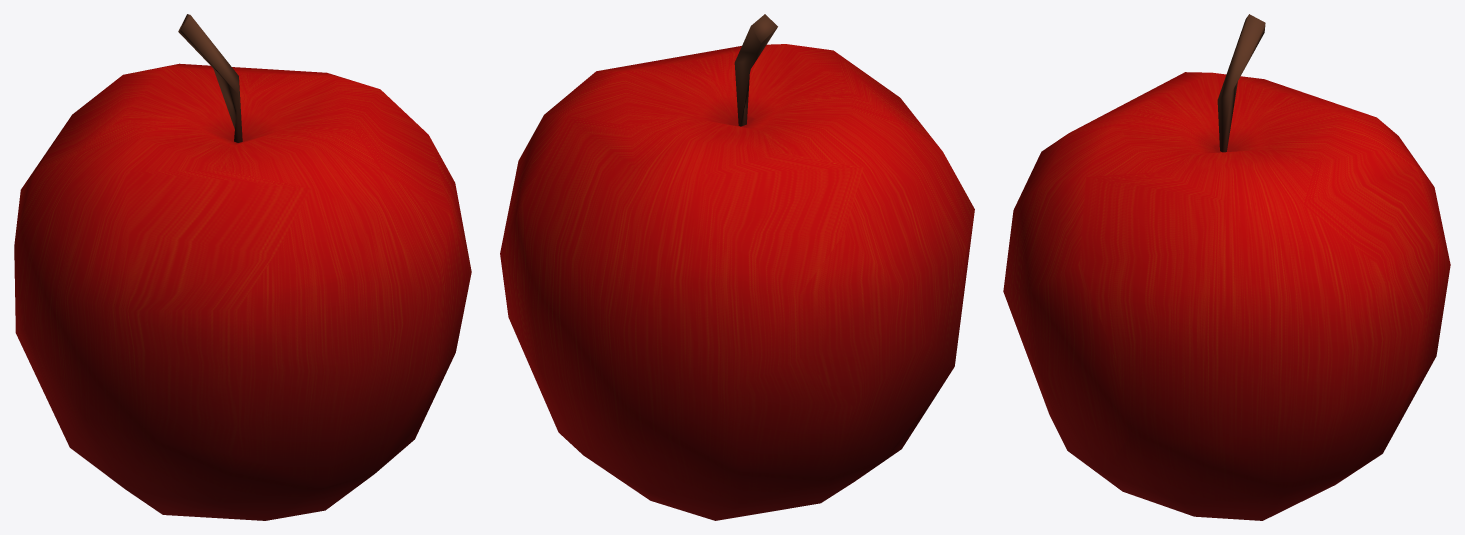
The model's file is apple-two.glb.
3 renders of one model, left to right at view 1: azimuth 30°, elevation 25°; view 2: azimuth 150°, elevation 25°; view 3: azimuth 270°, elevation 25°, orthographic. The views are drawn at different scales.
Parts seen in each view (by area): view 1: apple-two; view 2: apple-two; view 3: apple-two.
Part boxes in pixels (<box>): apple-two: <box>14,14,471,520</box>; apple-two: <box>500,14,974,520</box>; apple-two: <box>1003,14,1450,520</box>.
Bounding box in the file's own units: 1.85 × 2.11 × 1.86.
Materials: 1 (1 with a texture image).
